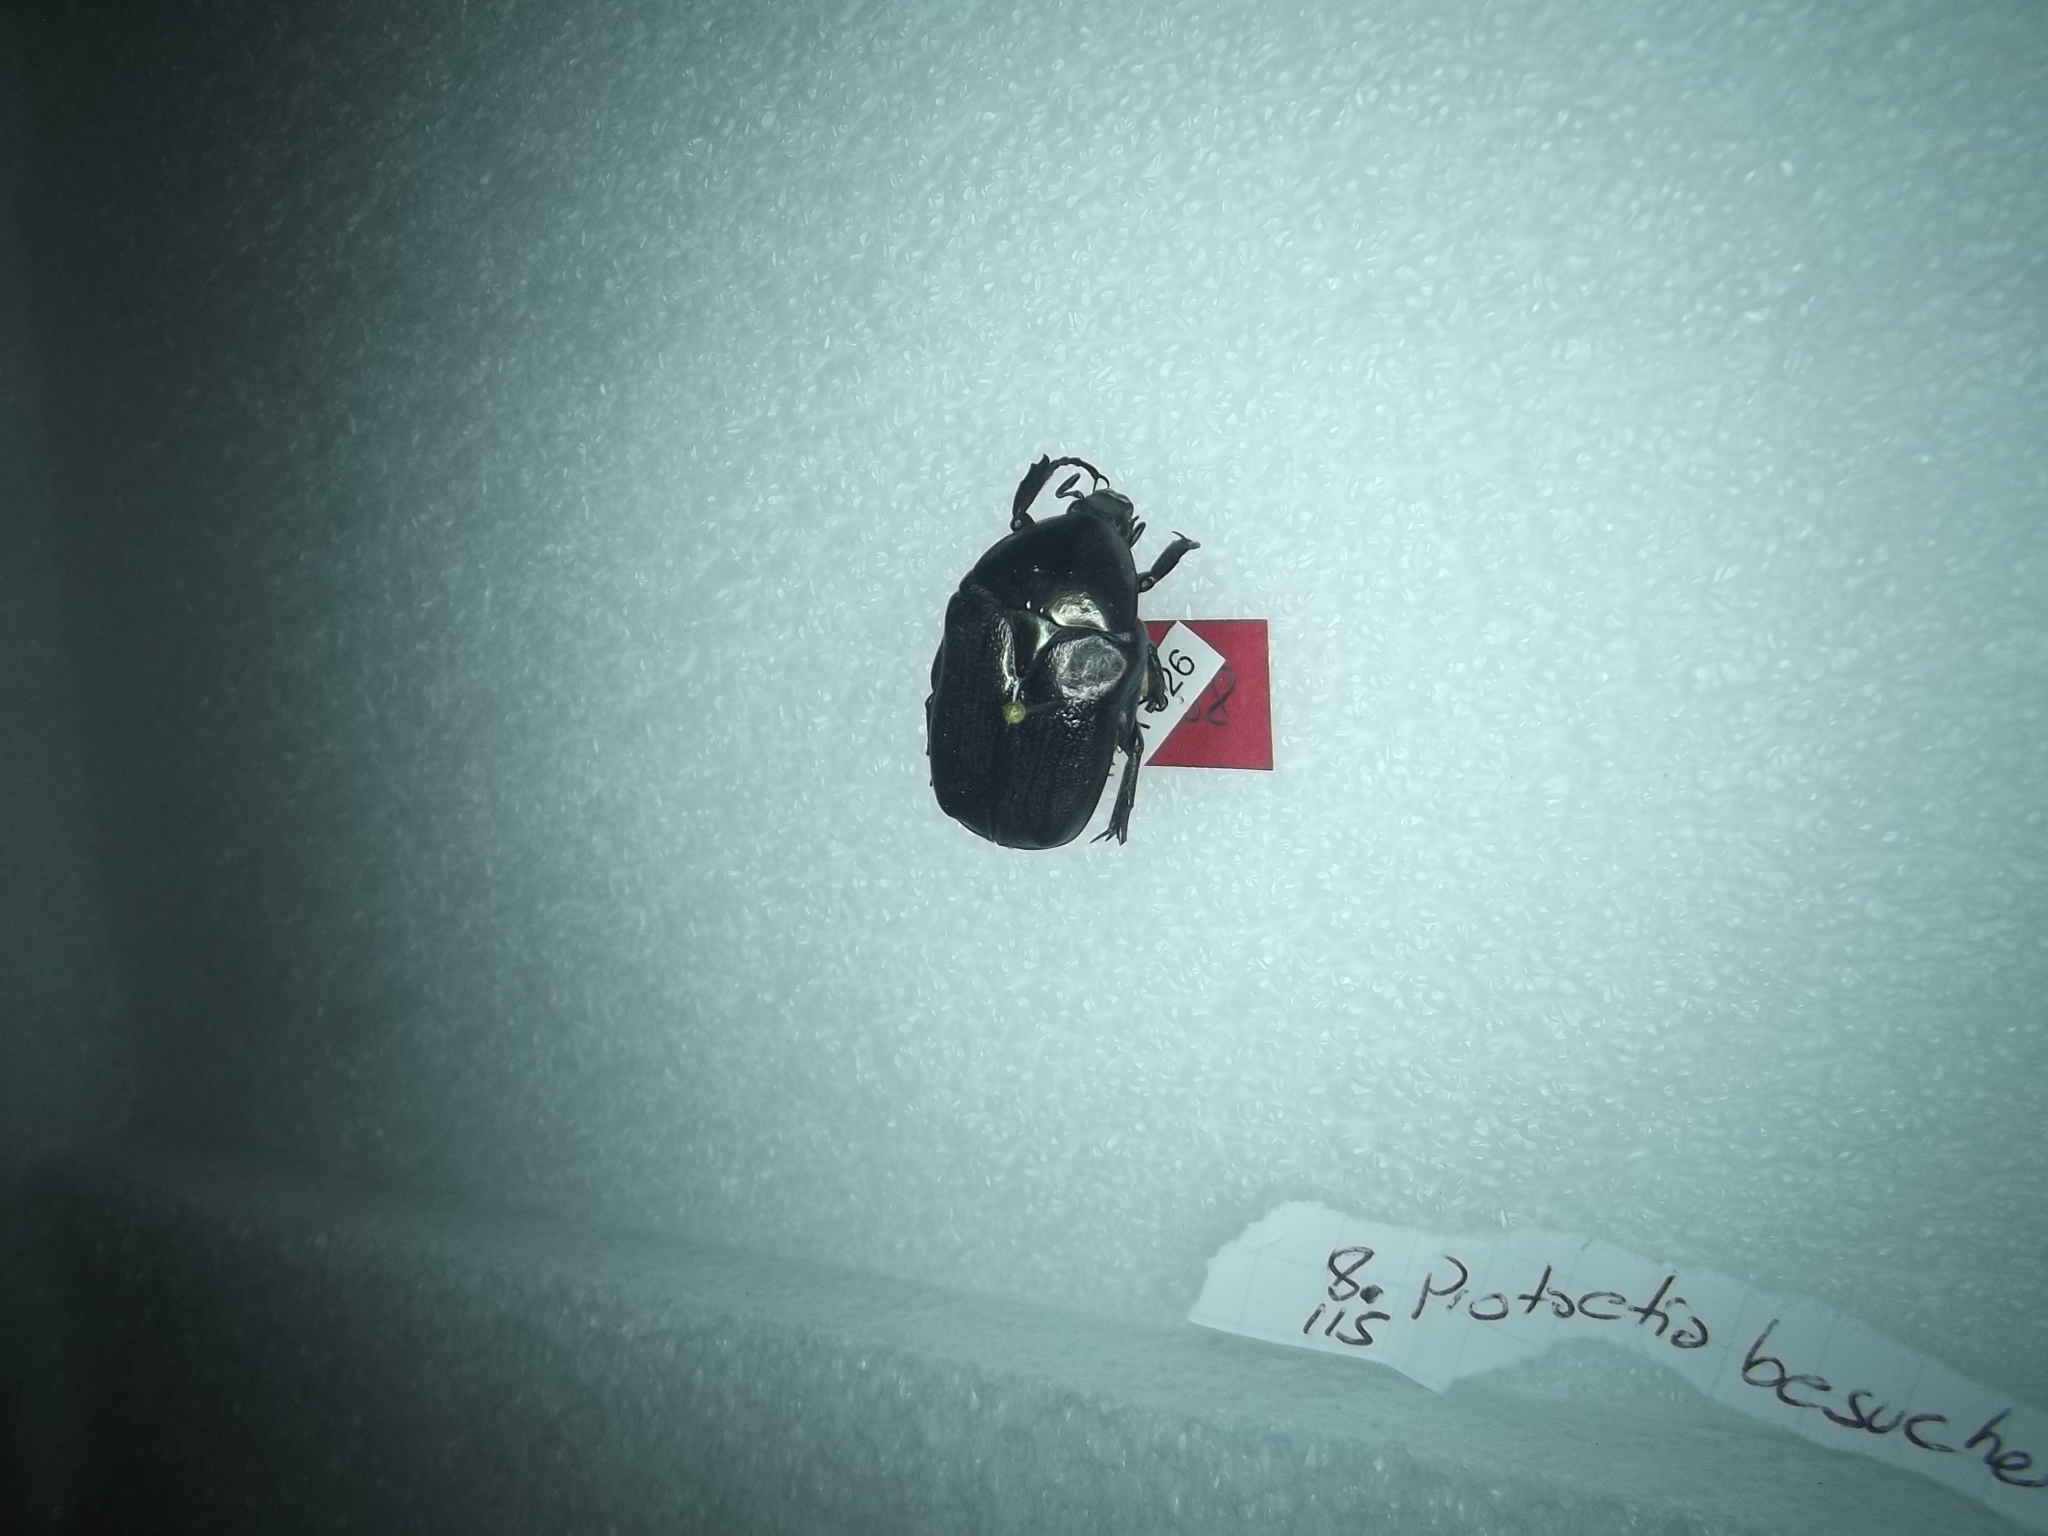Protaetia_besucheti: (908, 424, 1230, 887)
